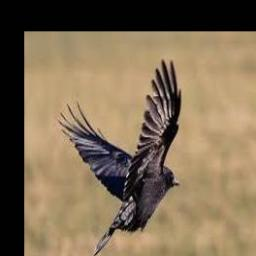Crow: (57, 59, 181, 255)
